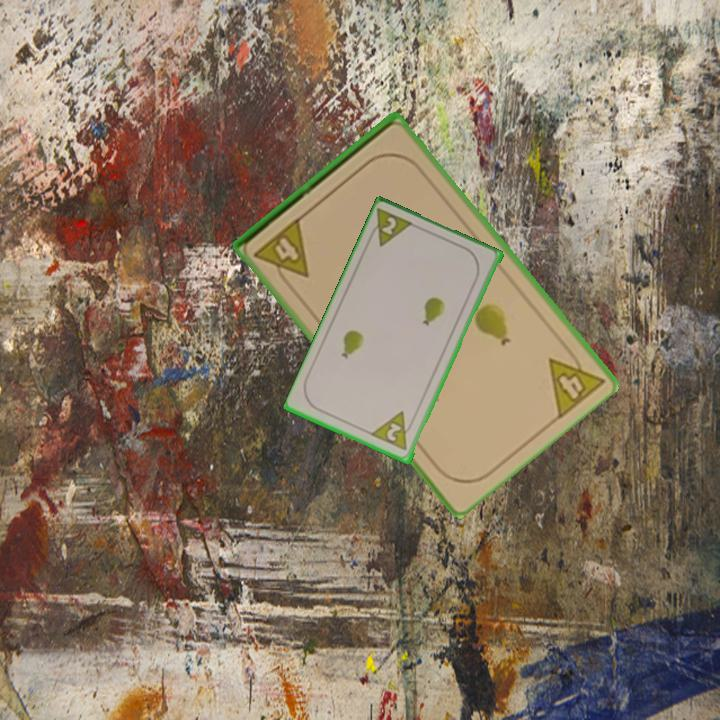2p: (364, 205, 418, 250), (369, 408, 417, 454)
4p: (545, 339, 608, 422), (250, 214, 312, 291)
